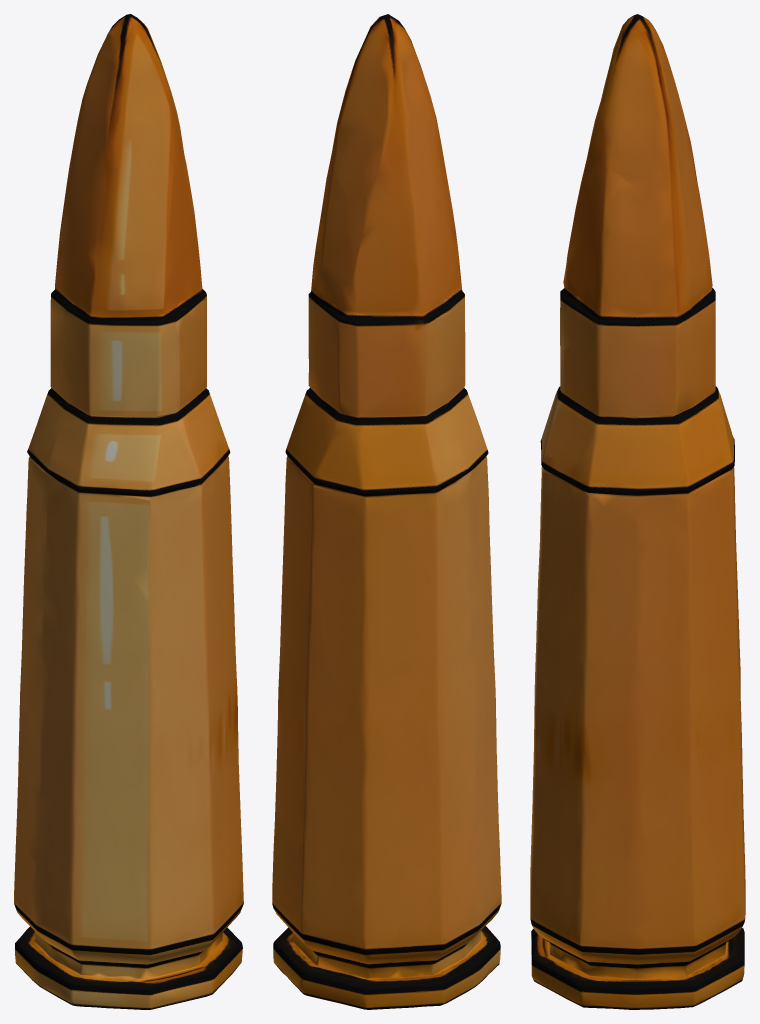
The model's file is BalaRevolver.fbx.
3 views of the same model, side by side, from view 1: azimuth 30°, elevation 25°; view 2: azimuth 150°, elevation 25°; view 3: azimuth 270°, elevation 25° (orthographic).
Parts seen in each view (by area): view 1: tripo_node_aa6b2734; view 2: tripo_node_aa6b2734; view 3: tripo_node_aa6b2734.
Part boxes in pixels (bbox=[...]): tripo_node_aa6b2734: bbox=[14, 14, 243, 1009]; tripo_node_aa6b2734: bbox=[272, 14, 501, 1009]; tripo_node_aa6b2734: bbox=[530, 14, 745, 1009].
Size of the model in its own units: 20.36 by 20.5 by 100.
Materials: 1 (1 with a texture image).
